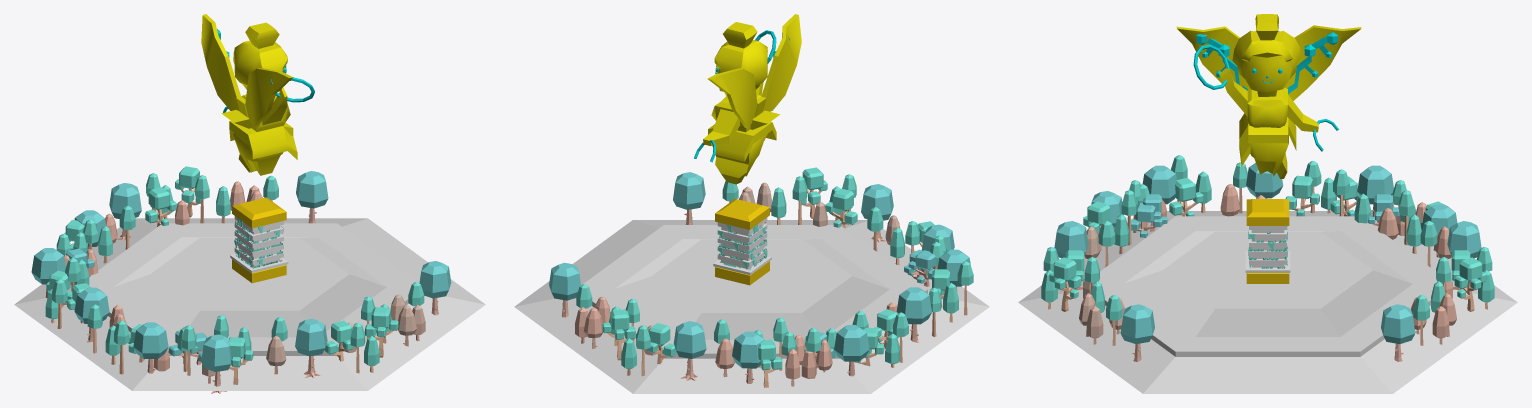
Rendered from angel.fbx.
3 views of the same model, side by side, from view 1: azimuth 30°, elevation 25°; view 2: azimuth 150°, elevation 25°; view 3: azimuth 270°, elevation 25° (orthographic). The views are drawn at different scales.
Parts seen in each view (by area): view 1: polySurface3, Angel; view 2: polySurface3, Angel; view 3: polySurface3, Angel.
Part boxes in pixels (box(x1,y1,x2,y2)): polySurface3: box(14, 166, 485, 393); Angel: box(201, 14, 314, 175); polySurface3: box(514, 167, 989, 393); Angel: box(694, 14, 801, 184); polySurface3: box(1018, 155, 1517, 393); Angel: box(1176, 14, 1361, 178).
Size of the model in its own units: 857 by 648 by 990.
